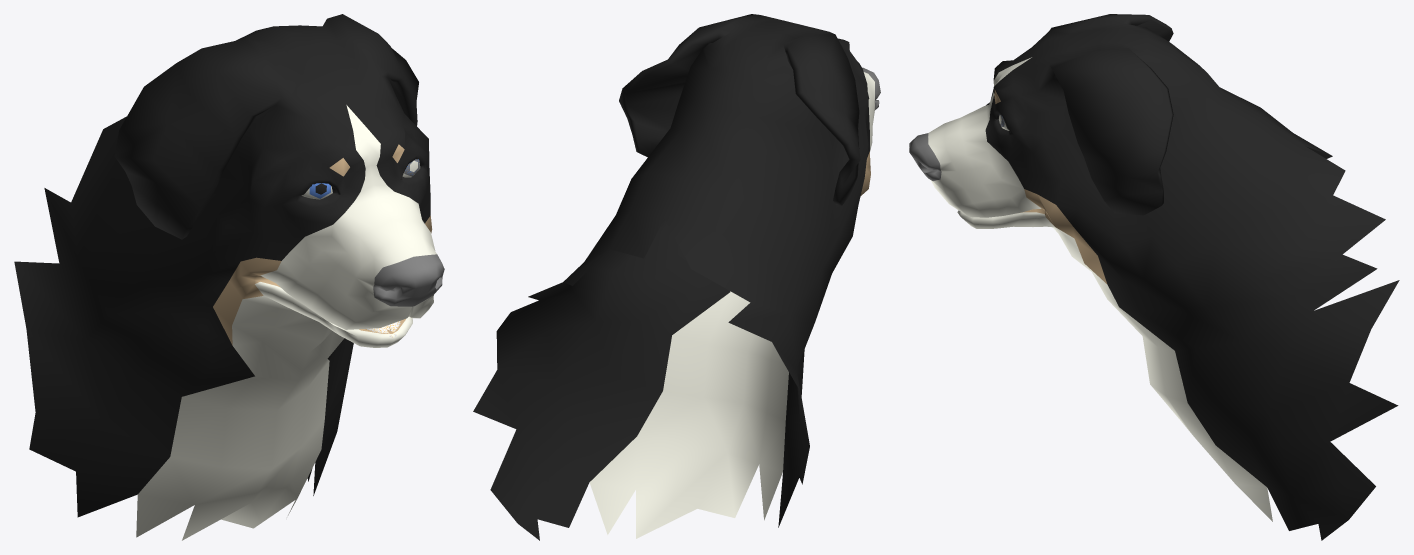
3 renders of one model, left to right at view 1: azimuth 30°, elevation 25°; view 2: azimuth 150°, elevation 25°; view 3: azimuth 270°, elevation 25°, orthographic. The views are drawn at different scales.
Visible parts, largest first — view 1: SketchUp (×5); view 2: SketchUp (×2); view 3: SketchUp (×5).
Part boxes in pixels (x1,y1,x2,y2): SketchUp (×5): (14, 14, 444, 540); SketchUp (×2): (473, 14, 869, 540); SketchUp (×5): (909, 14, 1399, 540).
Size of the model in its own units: 538 by 854 by 873.
